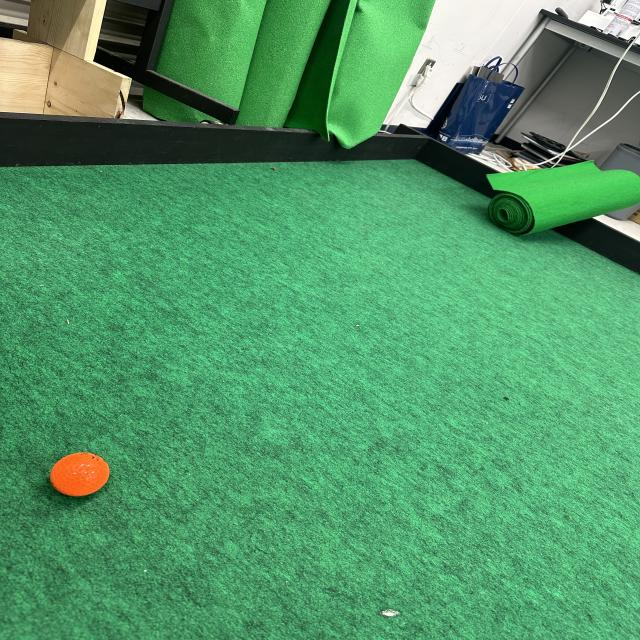ball: (48, 451, 111, 498)
